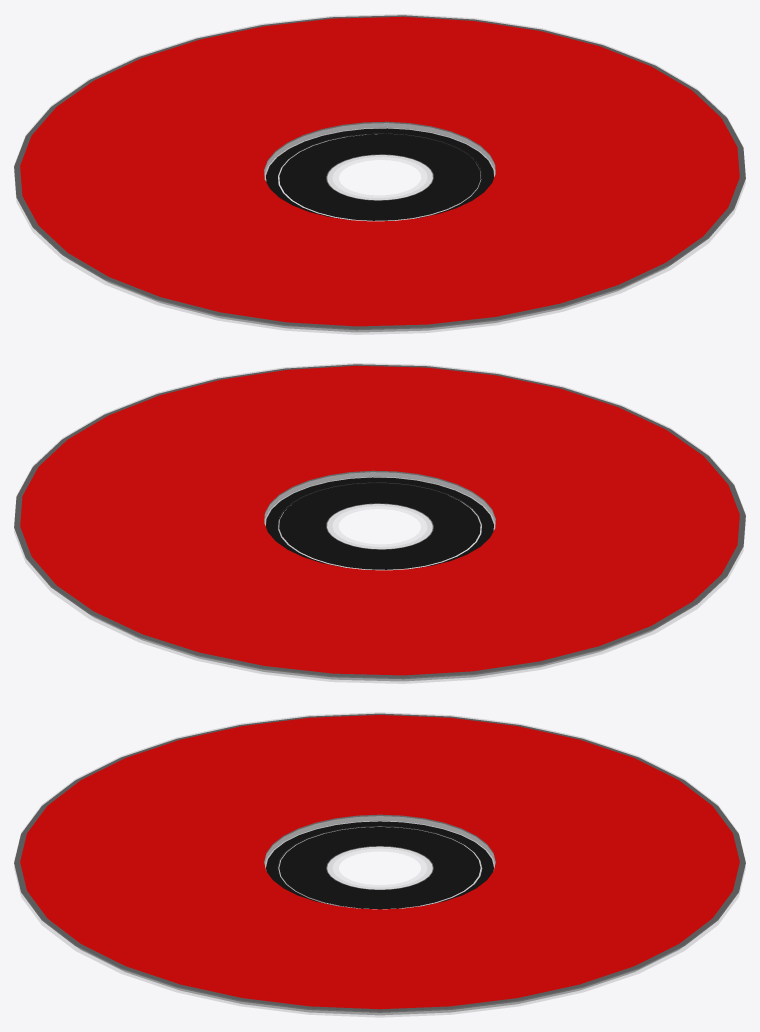
Rendered from CDSingleediting.fbx.
3 renders of one model, top to bottom at view 1: azimuth 30°, elevation 25°; view 2: azimuth 150°, elevation 25°; view 3: azimuth 270°, elevation 25°, orthographic.
Visible parts, largest first — view 1: CD; view 2: CD; view 3: CD.
Part boxes in pixels (x1,y1,x2,y2): CD: (14, 14, 745, 334); CD: (14, 363, 745, 683); CD: (14, 713, 745, 1016).
Bounding box in the file's own units: 0.1969 × 0.00479 × 0.1969.
